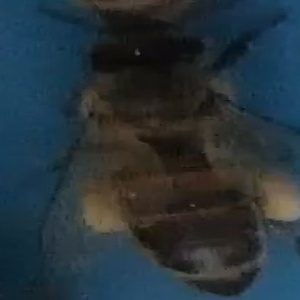bee: (42, 33, 298, 294)
